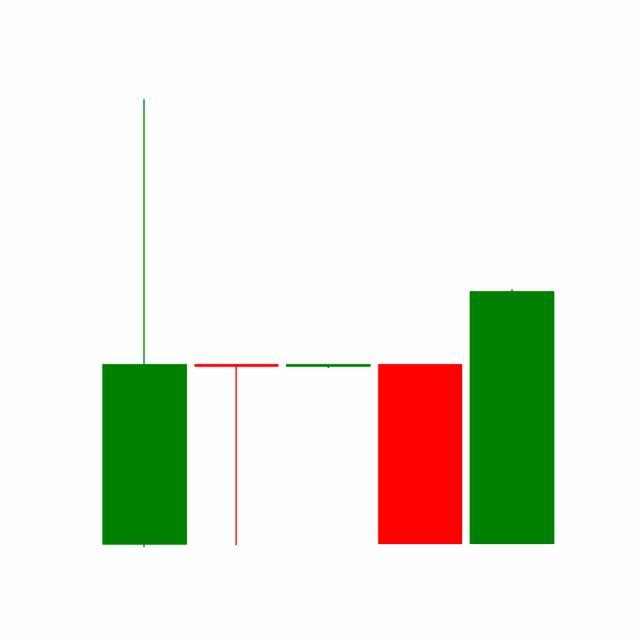Marubozu: (466, 286, 559, 547)
